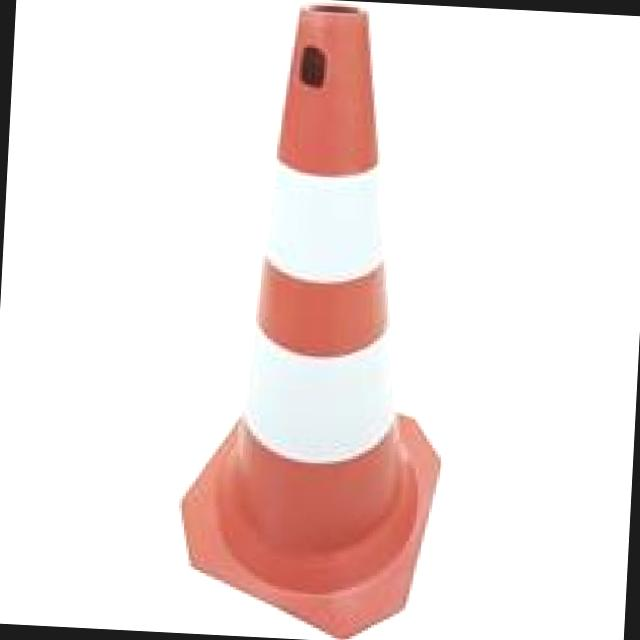cone: (148, 0, 483, 633)
